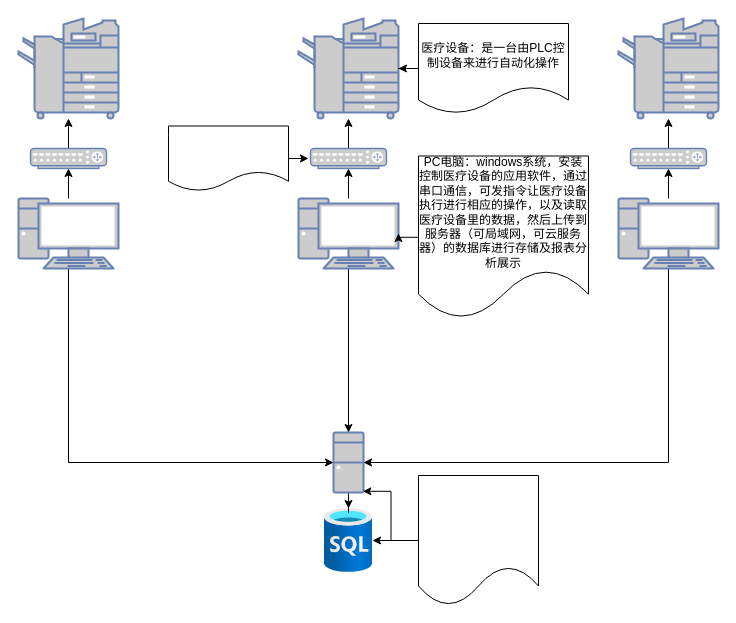
Some shapes in this 736 by 623 pixel diagram are drawn without their labels. Each missing label, with the centre of its shape:
"串口Com：用于PC电脑连接上面的医疗设备进行通信" belongs at point (228, 158).
"服务器及Database数据库:可以每个医院自己的局域网内部署，也可以购买云服务器部署。其中数据库若采用mysql是免费的" belongs at point (478, 540).
